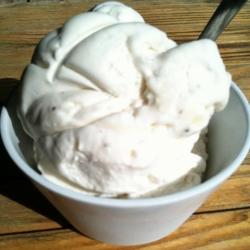icecream: (9, 2, 234, 221)
